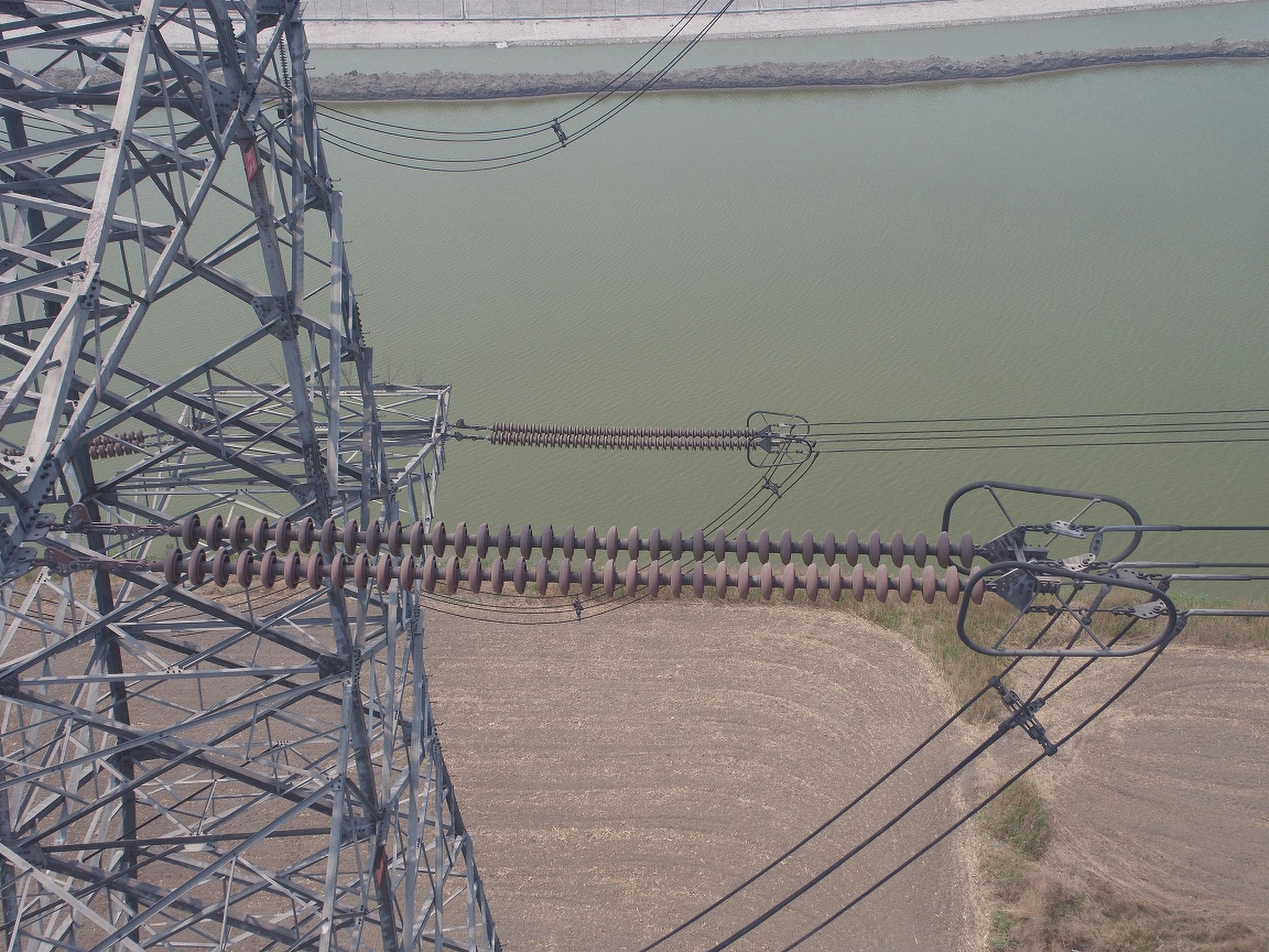insulator: (159, 508, 991, 608), (487, 419, 761, 453), (87, 428, 147, 461)
